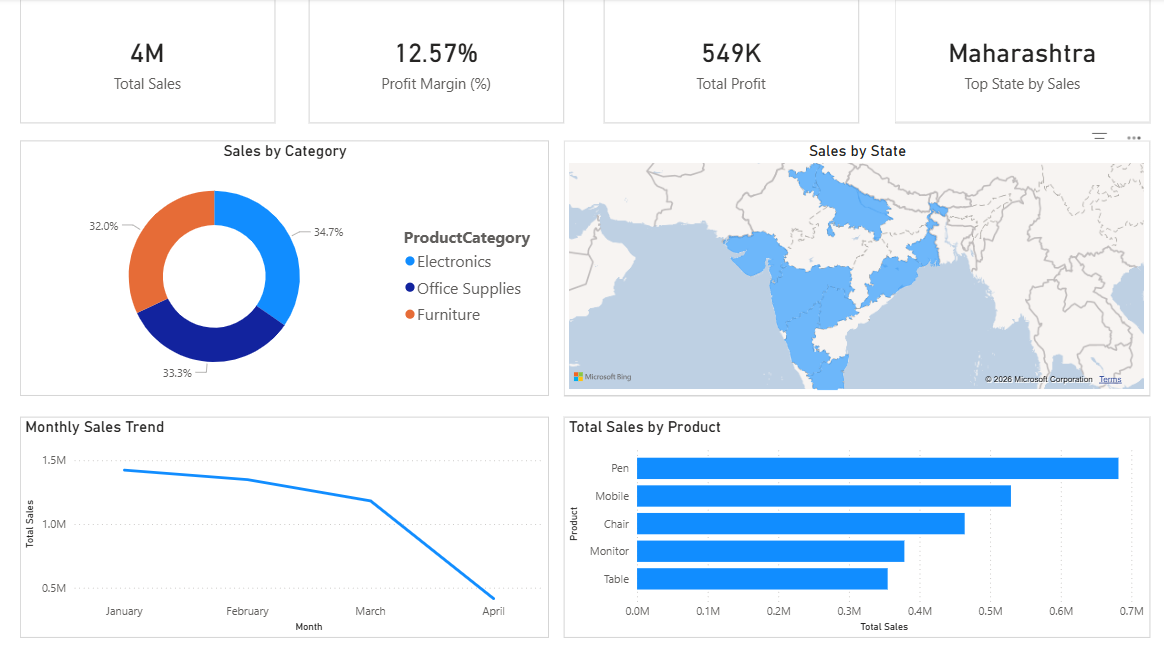

What the dashboard file says about the page in this screenshot:
{"tool":"powerbi","page":{"name":"Page 1","canvas":[1280,720],"ordinal":0},"visuals":[{"type":"card","fields":{"Values":["SalesData.Profit Margin (%)"]},"box":[338.9,1.4,279.9,135.8],"z":0},{"type":"card","fields":{"Values":["SalesData.Total Profit"]},"box":[661.4,1.4,279.9,135.8],"z":1000},{"type":"card","fields":{"Values":["SalesData.Total Sales"]},"box":[22,1.4,279.9,135.8],"z":2000},{"type":"card","fields":{"Values":["SalesData.Top State by Sales"]},"box":[981.1,1.4,279.9,135.8],"z":3000},{"type":"donutChart","title":"Sales by Category","fields":{"Y":["SalesData.Total Sales"],"Category":["SalesData.ProductCategory"]},"box":[21.9,156.3,579.8,279.6],"z":4000},{"type":"filledMap","title":"Sales by State","fields":{"Category":["SalesData.State"]},"box":[618.2,156.3,642.9,279.6],"z":5000},{"type":"lineChart","title":"Monthly Sales Trend","fields":{"Category":["SalesData.OrderDate.Variation.Date Hierarchy.Month"],"Y":["SalesData.Total Sales"]},"box":[21.9,459.2,579.8,242.6],"z":6000},{"type":"clusteredBarChart","fields":{"Category":["SalesData.Product"],"Y":["SalesData.Total Sales"]},"box":[618.2,459.2,642.9,242.6],"z":7000}]}

Visuals, with their boxes in screenshot pixels (x1, y1, x2, y2), scaled from the page's 1280x720 canvas onto the 1164x650 screenshot:
card - SalesData.Profit Margin (%): (x1=308, y1=1, x2=563, y2=124)
card - SalesData.Total Profit: (x1=601, y1=1, x2=856, y2=124)
card - SalesData.Total Sales: (x1=20, y1=1, x2=275, y2=124)
card - SalesData.Top State by Sales: (x1=892, y1=1, x2=1147, y2=124)
"Sales by Category" donutChart: (x1=20, y1=141, x2=547, y2=394)
"Sales by State" filledMap: (x1=562, y1=141, x2=1147, y2=394)
"Monthly Sales Trend" lineChart: (x1=20, y1=415, x2=547, y2=634)
clusteredBarChart - SalesData.Product x SalesData.Total Sales: (x1=562, y1=415, x2=1147, y2=634)
